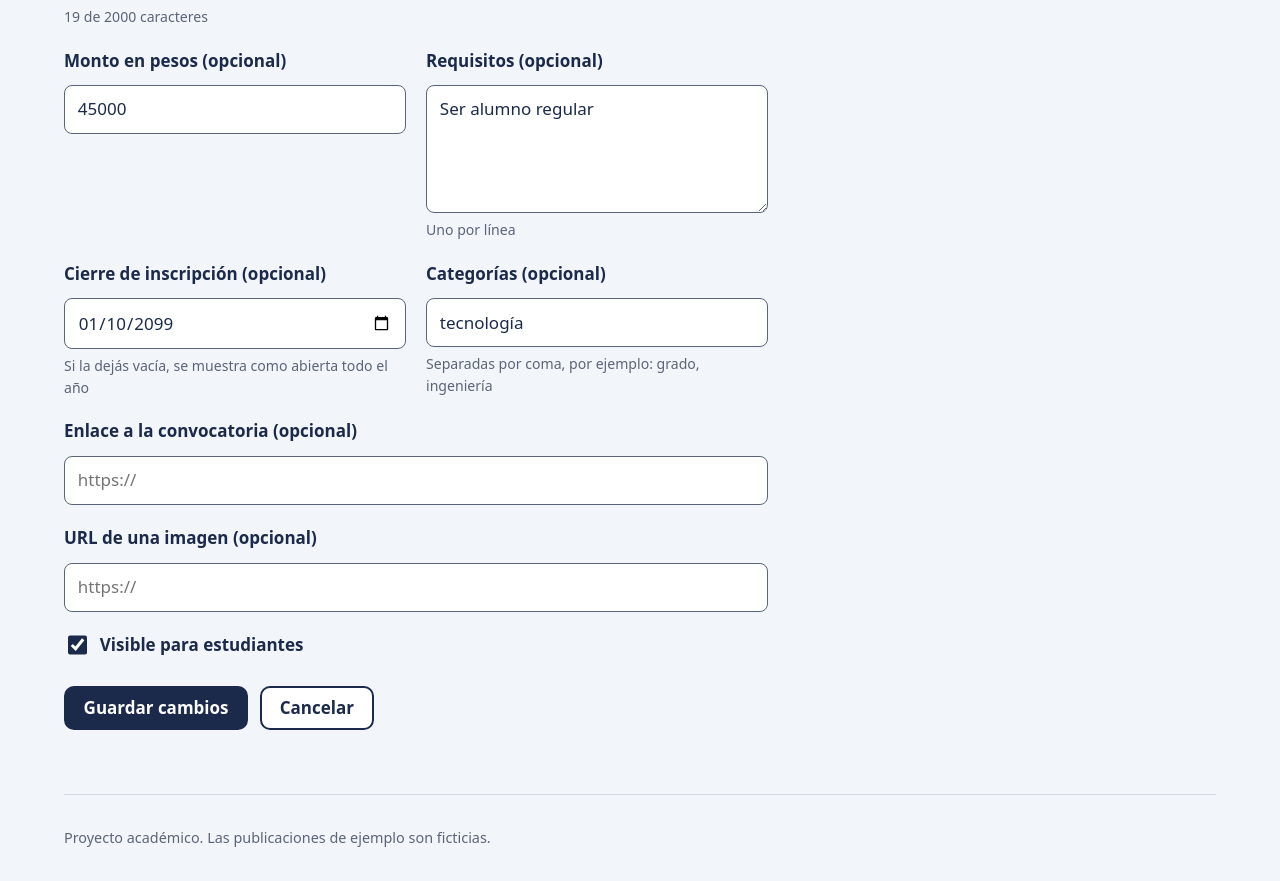
it: Editor de publicaciones › carga los datos al editar y muestra los errores que devuelve la API
The width and height of the screenshot is (1280, 881).
(page scrolled)
Expected: the text box labelled "Requisitos (opcional)" holds "Ser alumno regular", [426,85,768,213]
Click the button "Guardar cambios": {"x": 156, "y": 708} [64,686,248,730]
(page scrolled)
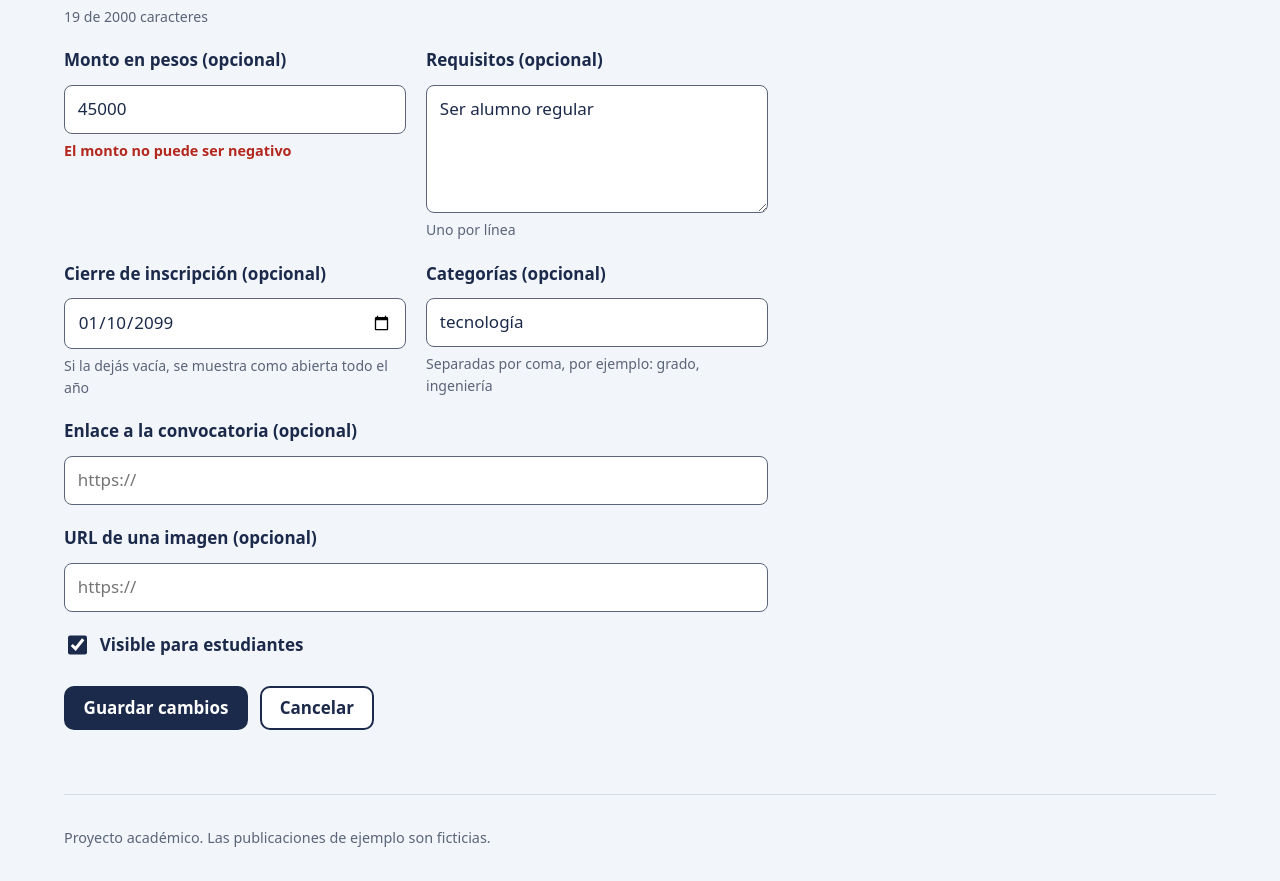
Now the text "El monto no puede ser negativo" is shown, box [64,141,292,160]
